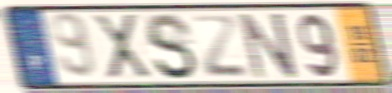9: (52, 11, 99, 85), (297, 11, 341, 80)
N: (237, 10, 301, 81)
S: (143, 11, 200, 83)
X: (90, 12, 155, 82)
Z: (190, 13, 251, 79)
